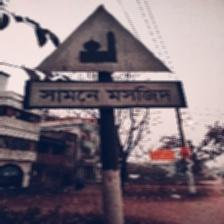Mosque in front: (30, 2, 183, 112)
